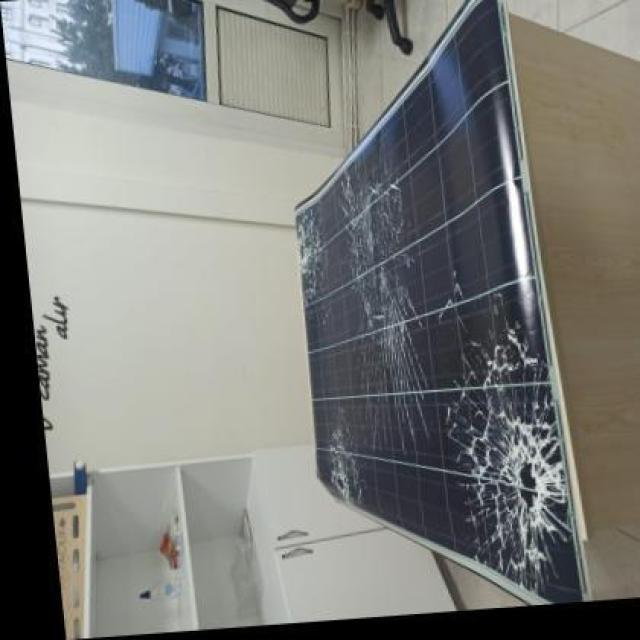cracked: (293, 3, 576, 617)
